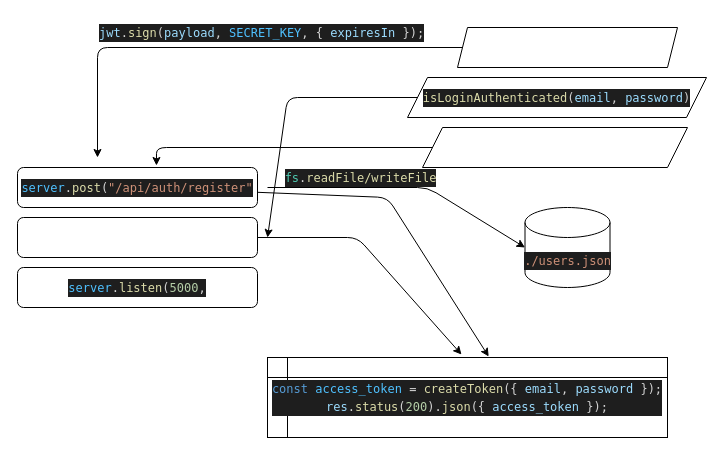
Some shapes in this 724 by 455 pixel diagram are drawn without their labels. Here are the shapes that lost their labels. From the top down, the centre of each, then its label:
pixel 567 47: createToken ( payload )
pixel 555 147: isRegisterAuthenticated ( email )
pixel 137 237: server . post ( "/api/auth/login"
